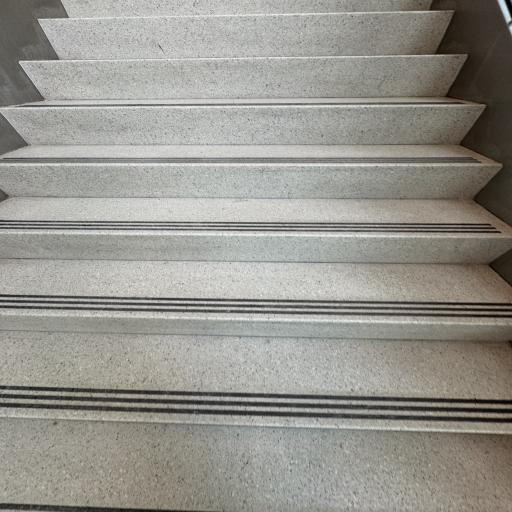Stairs: (0, 0, 512, 512), (0, 331, 512, 434), (0, 197, 512, 264), (0, 145, 502, 199), (0, 97, 484, 146), (20, 55, 466, 100)
